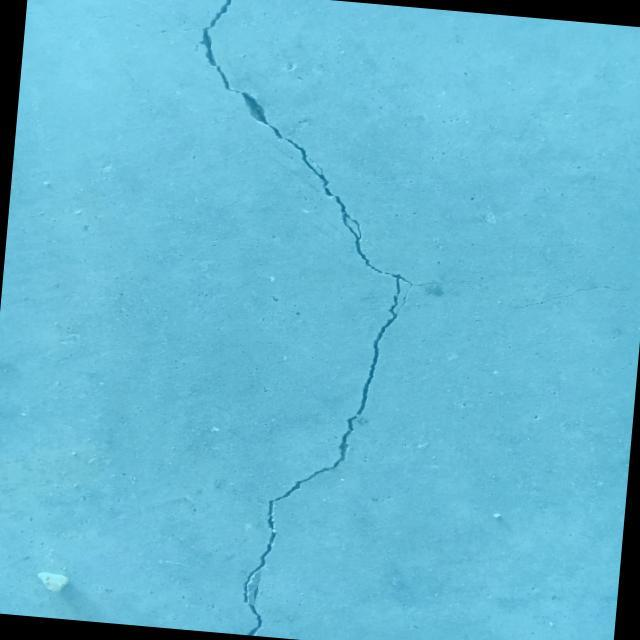crack: (97, 0, 525, 640), (493, 275, 640, 318), (26, 8, 150, 26)
